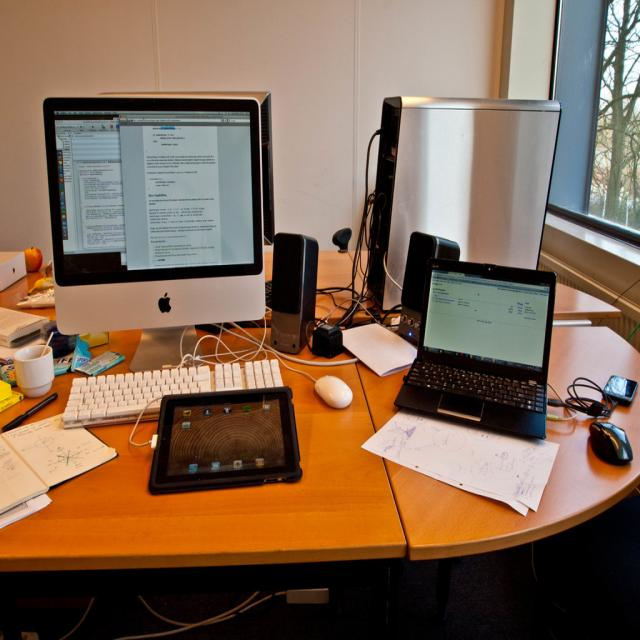desk: (3, 247, 639, 634)
keyboard: (60, 358, 288, 428)
laptop: (392, 258, 556, 442)
mouse: (589, 421, 634, 465), (314, 376, 352, 409)
tv: (43, 94, 269, 338)
